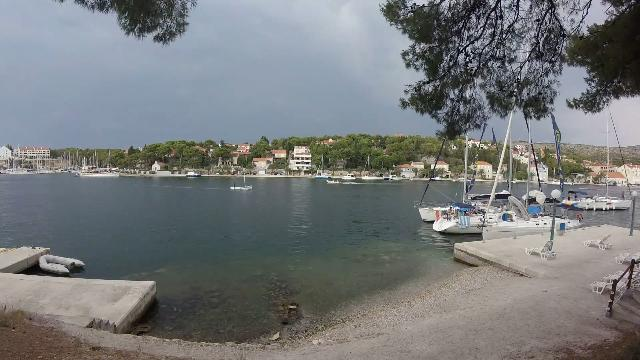Sailboat: (226, 175, 256, 191)
speedboat: (324, 172, 344, 188)
